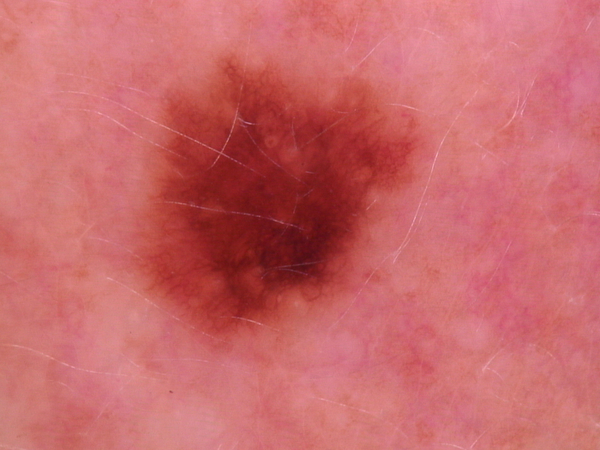Detected Lesion: (136, 49, 419, 347)
